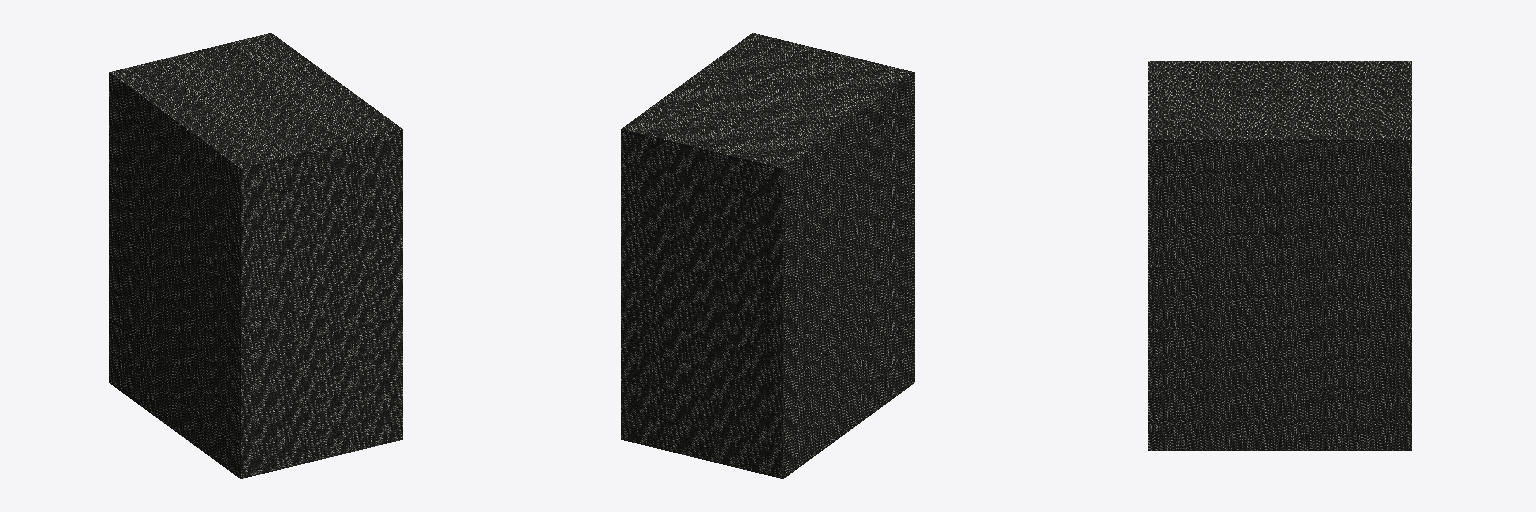
3 views of the same model, side by side, from view 1: azimuth 30°, elevation 25°; view 2: azimuth 150°, elevation 25°; view 3: azimuth 270°, elevation 25° (orthographic).
Parts seen in each view (by area): view 1: SatelliteBase; view 2: SatelliteBase; view 3: SatelliteBase.
Boxes of the visible parts, x1,y1,x2,y2 form: SatelliteBase: [109, 33, 402, 478]; SatelliteBase: [621, 33, 914, 478]; SatelliteBase: [1148, 61, 1411, 450].
Bounding box in the file's own units: 22.92 × 41.95 × 32.19.
1 materials, 1 textured.